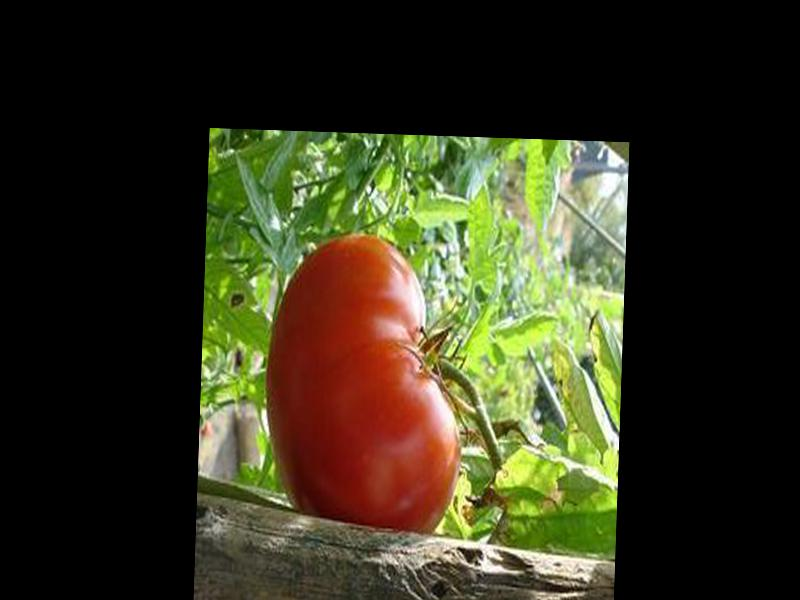Tomato: (263, 230, 468, 539)
